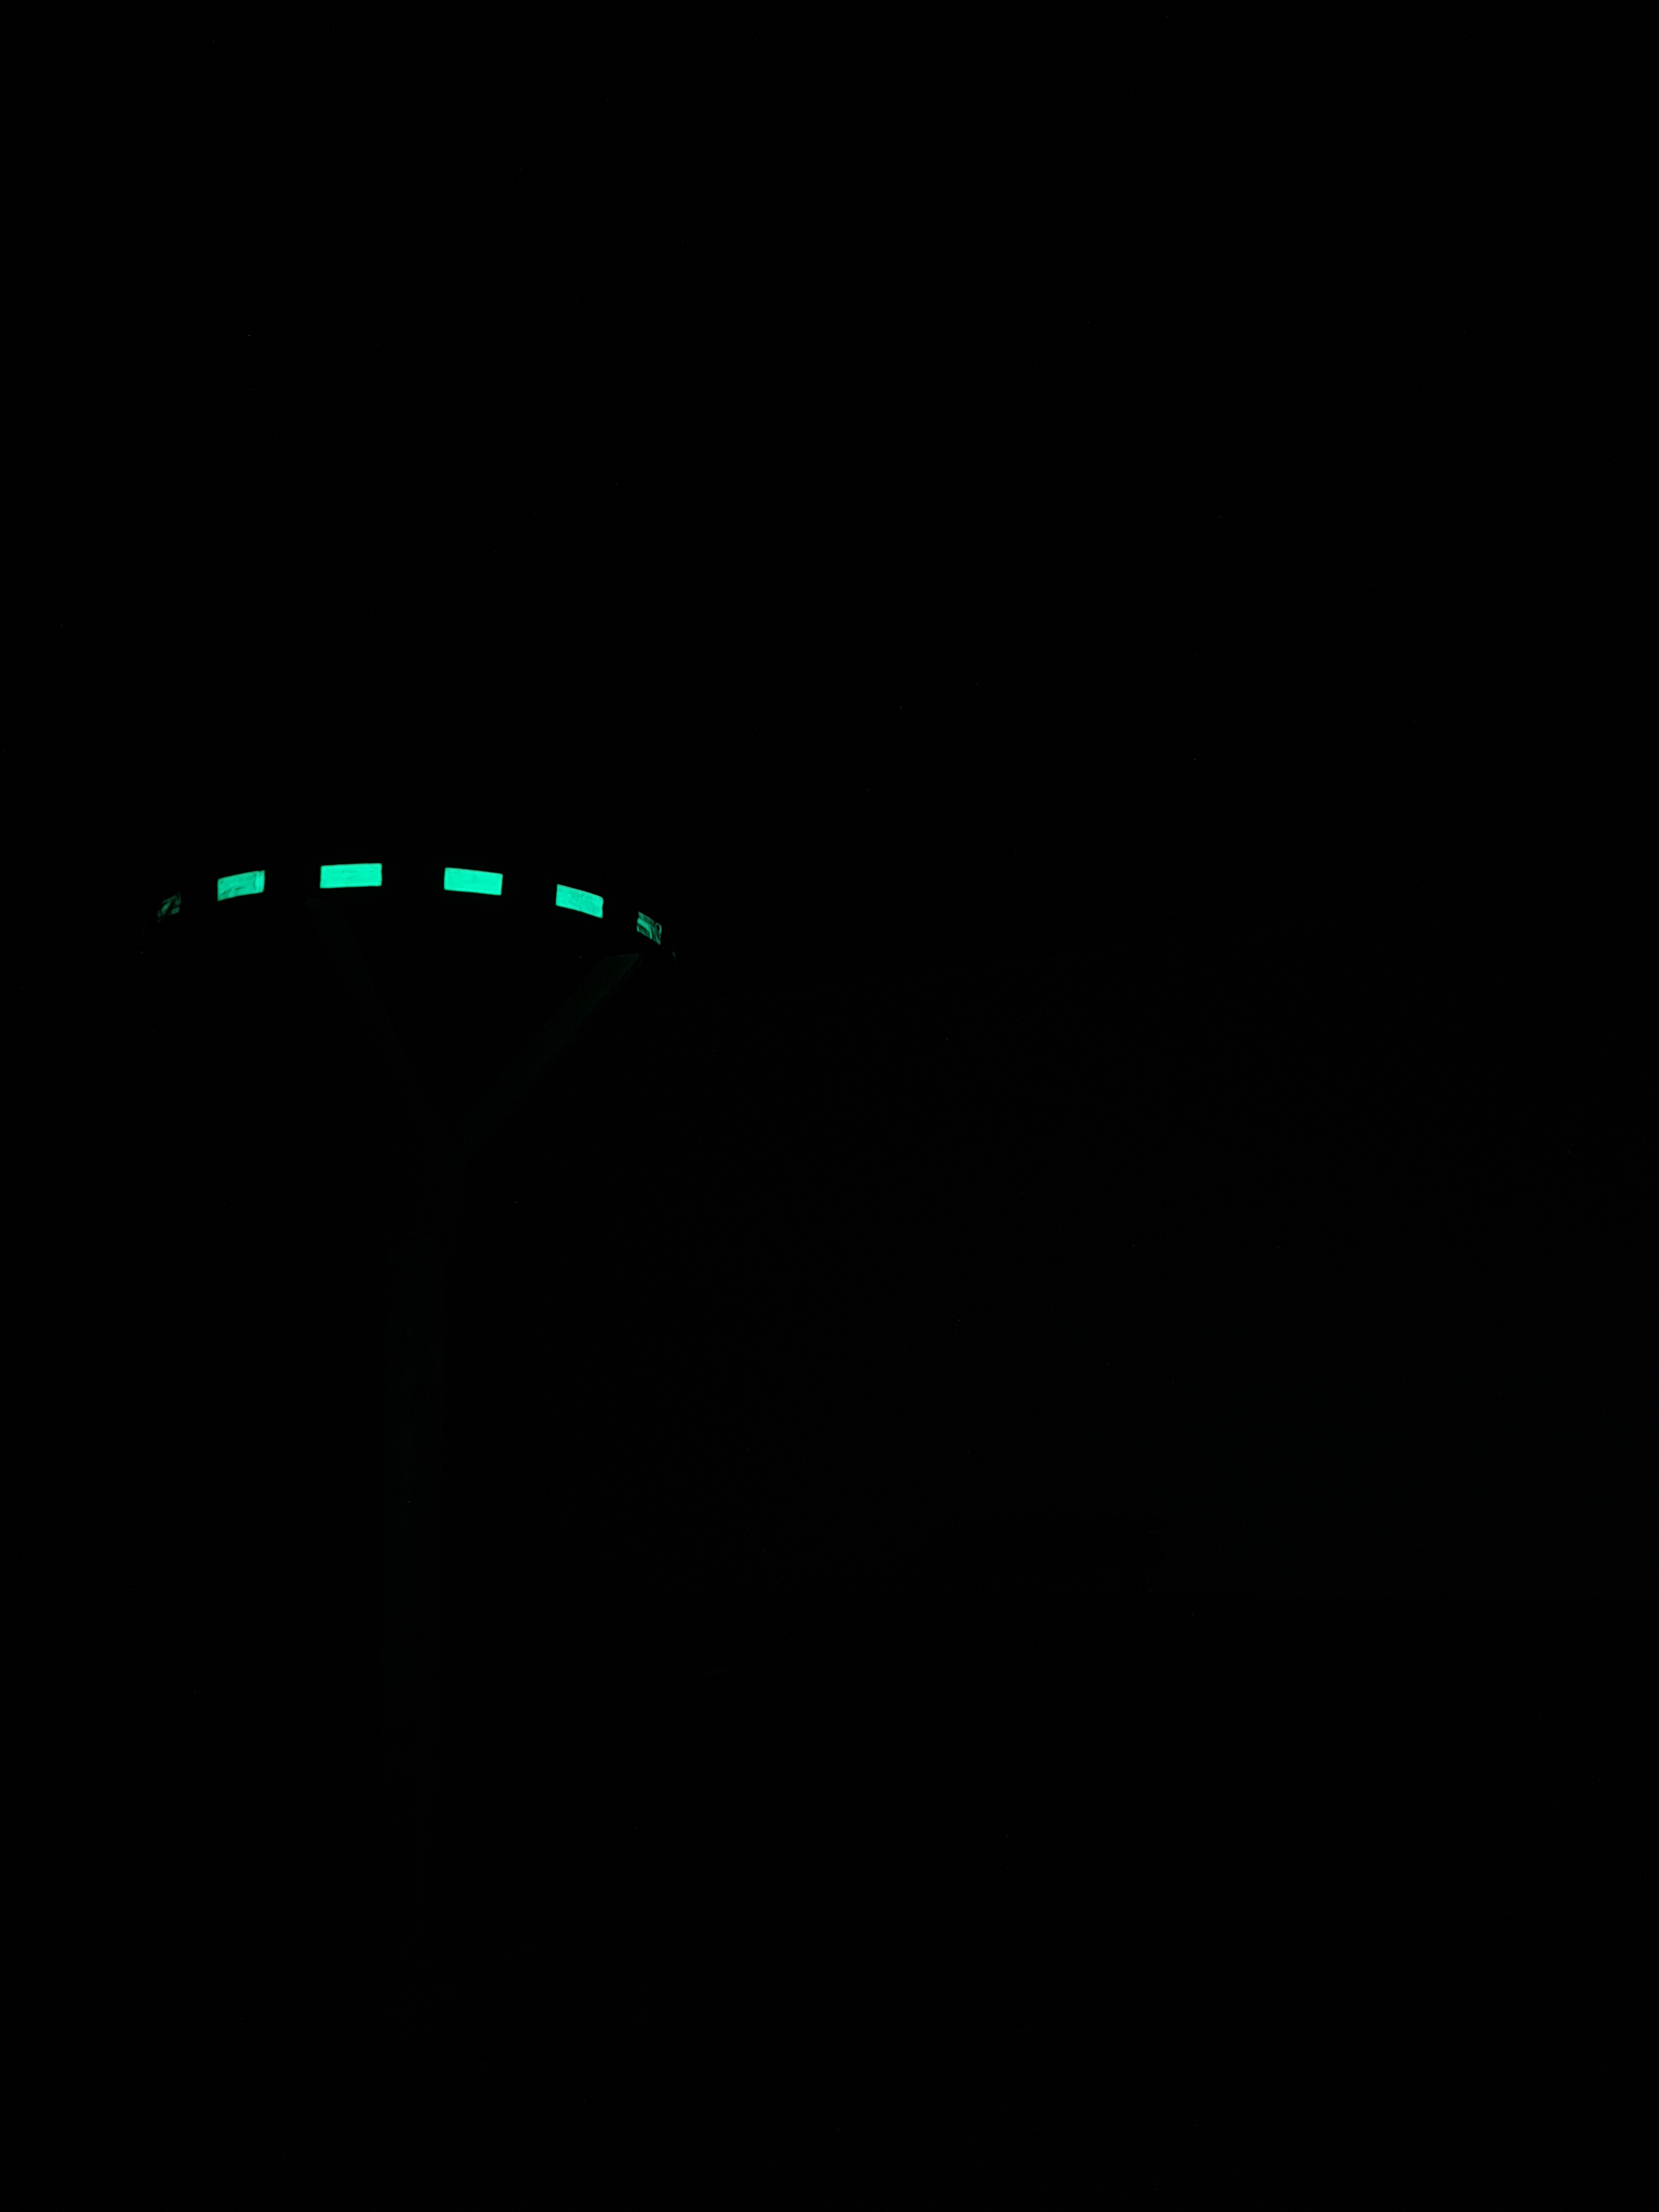hoop: (113, 848, 680, 965)
